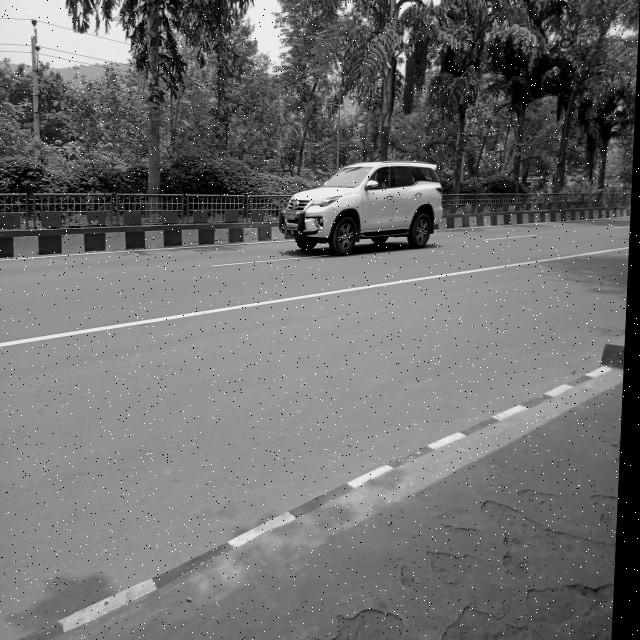car: (280, 154, 457, 252)
